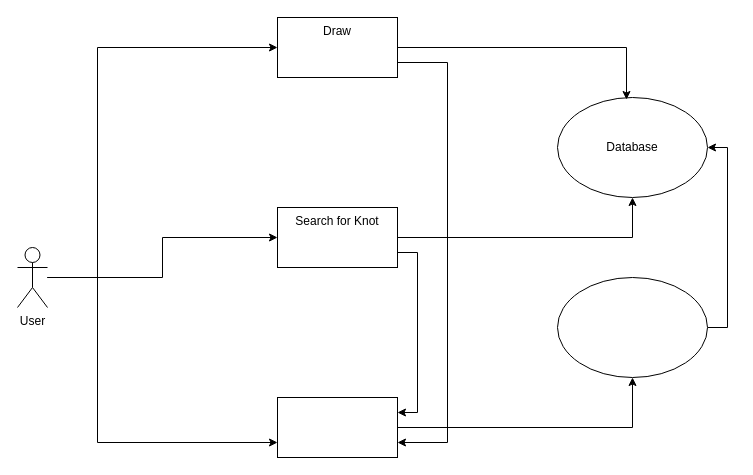
The diagram is 753 pixels wide and 475 high, and some of its shapes have lost their labels. Here are the shapes that lost their labels. From the top down, the centre of each, then its label:
At (632,327): "People who fix it".
At (337,427): "Report an issue".
